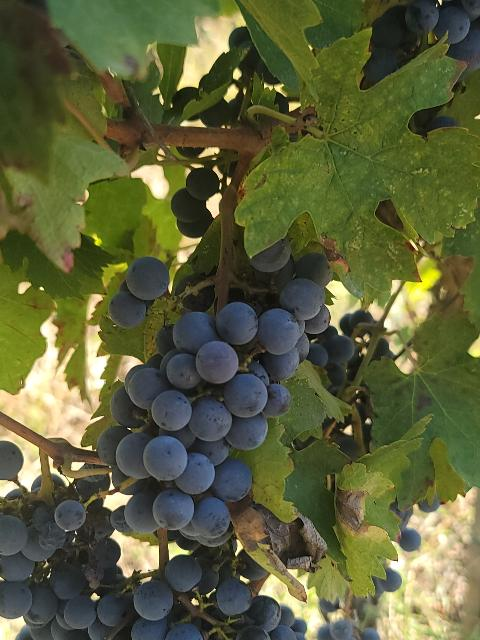grapes: (99, 256, 329, 545), (0, 475, 125, 640), (135, 555, 305, 640)
